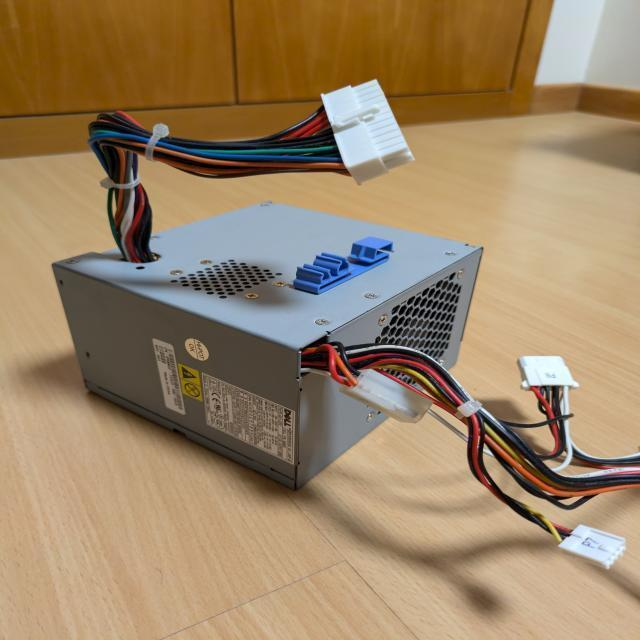PSU: (52, 200, 484, 492)
